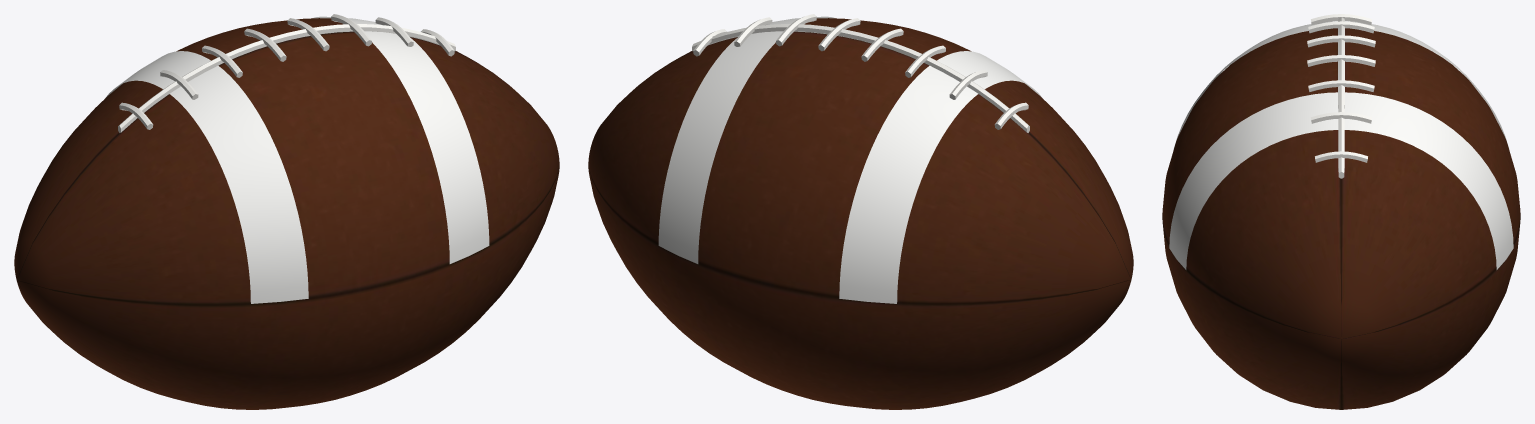
The model's file is football_college.glb.
3 views of the same model, side by side, from view 1: azimuth 30°, elevation 25°; view 2: azimuth 150°, elevation 25°; view 3: azimuth 270°, elevation 25° (orthographic). The views are drawn at different scales.
Parts seen in each view (by area): view 1: football_college; view 2: football_college; view 3: football_college.
Part boxes in pixels (x1=…): football_college: x1=14, y1=14, x2=559, y2=409; football_college: x1=588, y1=14, x2=1133, y2=409; football_college: x1=1162, y1=14, x2=1520, y2=409.
Bounding box in the file's own units: 0.2819 × 0.1782 × 0.1736.
Materials: 3 (1 with a texture image).
